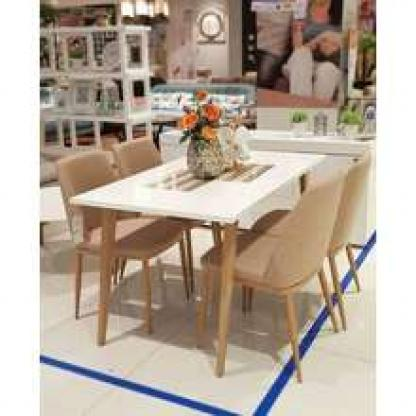Dining Table: (50, 137, 375, 386)
